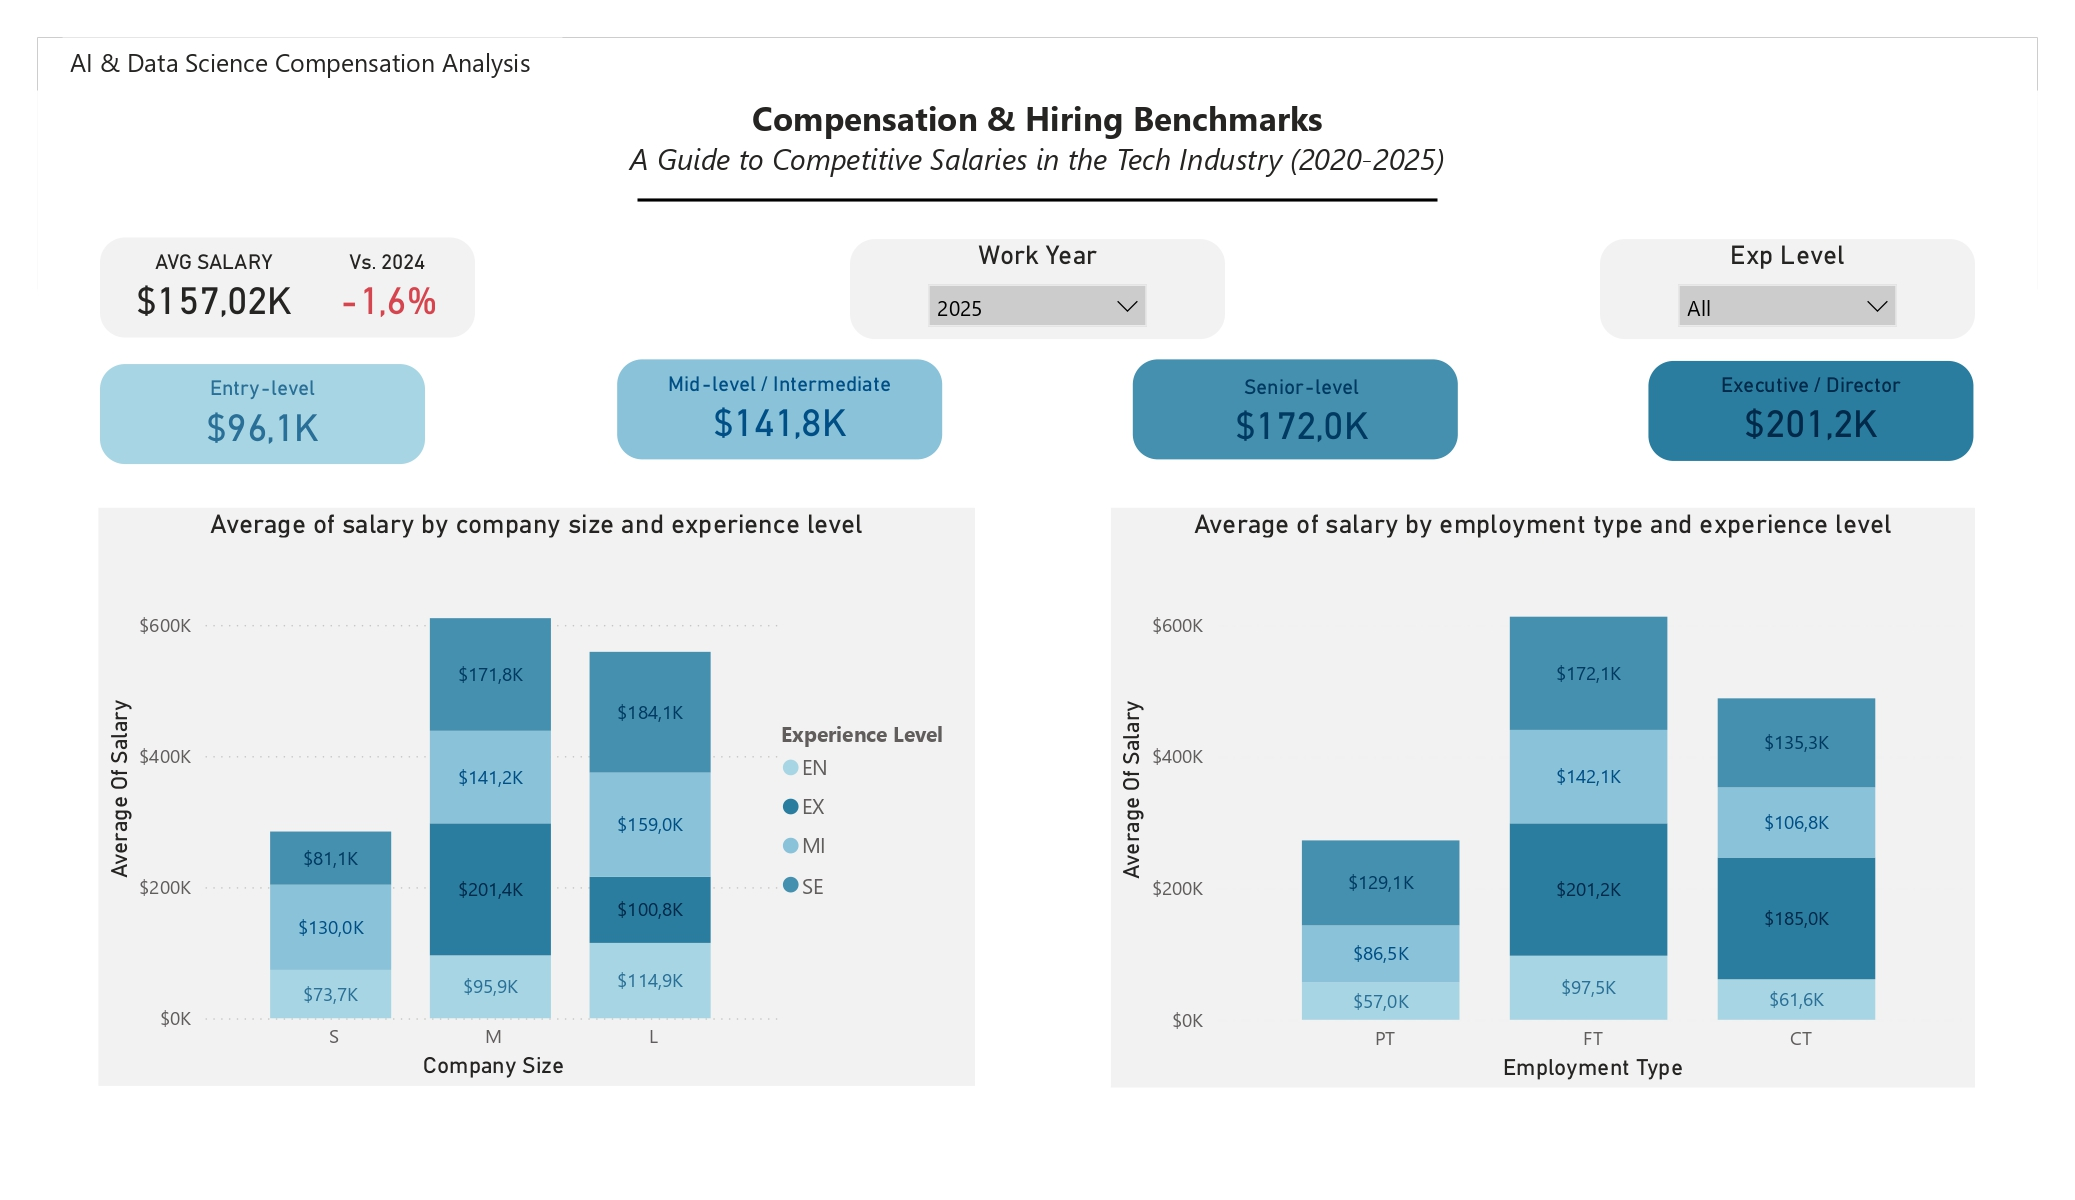

Layout of this report page (visuals, bound fields, positions):
{"tool":"powerbi","page":{"name":"2a.Drill-down by Dimension","canvas":[1280,720],"ordinal":1},"visuals":[{"type":"textbox","box":[16,0,320,48],"z":0},{"type":"shape","box":[1000,128.8,240,64],"z":0,"group":"g2"},{"type":"textbox","box":[16,32,1248,64],"z":1000},{"type":"slicer","title":"Exp Level","fields":{"Values":["salaries.experience_level"]},"box":[1040.2,128.8,160,64],"z":1000,"group":"g2"},{"type":"shape","box":[520,128.6,240,64],"z":1500,"group":"g3"},{"type":"shape","box":[384,96,512,16],"z":2000},{"type":"group","id":"g1","title":"Group 7","box":[40,128,240,64],"z":3000},{"type":"shape","box":[40,128,240,64],"z":4000,"group":"g1"},{"type":"columnChart","title":"Average of salary by company size and experience level","fields":{"Category":["salaries.company_size"],"Y":["Avg(salaries.salary_in_usd)"],"Series":["salaries.experience_level"]},"box":[39.3,301.3,560.4,369.7],"z":4000},{"type":"card","title":"AVG SALARY","fields":{"Values":["Avg(salaries.salary_in_usd)"]},"box":[55.4,136,115.4,48],"z":5000,"group":"g1"},{"type":"columnChart","title":"Average of salary by employment type and experience level","fields":{"Y":["Avg(salaries.salary_in_usd)"],"Category":["salaries.employment_type"],"Series":["salaries.experience_level"]},"box":[687,301.3,553.1,371.2],"z":5000},{"type":"group","id":"g2","title":"Group 1","box":[1000,128.8,240,63.8],"z":6000},{"type":"shape","box":[40,208.6,208,64],"z":6000,"group":"g7"},{"type":"group","id":"g3","title":"Group 2","box":[520,128.6,240,48],"z":7000},{"type":"shape","box":[370.7,206.2,208,64],"z":7000,"group":"g5"},{"type":"group","id":"g4","title":"Group 2","box":[700.9,206.2,208,64],"z":8000},{"type":"shape","box":[700.9,206.2,208,64],"z":8000,"group":"g4"},{"type":"slicer","title":"Work Year","fields":{"Values":["salaries.work_year"]},"box":[560.2,128.6,160,64],"z":9000,"group":"g3"},{"type":"group","id":"g5","title":"Group 3","box":[370.7,206.2,208,64],"z":9000},{"type":"group","id":"g6","title":"Group 4","box":[1031.1,206.8,208.1,63.5],"z":10000},{"type":"shape","box":[1031.1,206.8,208,64],"z":10000,"group":"g6"},{"type":"group","id":"g7","title":"Group 5","box":[40,208.6,208.6,62.9],"z":11000},{"type":"card","title":"Mid-level / Intermediate","fields":{"Values":["salaries.Mid-level"]},"box":[386.7,214.2,176,48],"z":11000,"group":"g5"},{"type":"card","title":"Senior-level","fields":{"Values":["salaries.Senior-level"]},"box":[721.1,215.9,176,48],"z":12000,"group":"g4"},{"type":"card","title":"Executive / Director","fields":{"Values":["salaries.Executive"]},"box":[1047.1,214.8,176,48],"z":13000,"group":"g6"},{"type":"card","title":"Vs. 2024","fields":{"Values":["salaries.Avg_Sal_Change_Vs2024"]},"box":[176,136,96,48],"z":14002,"group":"g1"},{"type":"card","title":"Entry-level","fields":{"Values":["salaries.Entry-level"]},"box":[56,216.6,176,48],"z":16000,"group":"g7"}]}

Visuals, with their boxes on the page's 1280x720 design canvas (x1, y1, x2, y2). These are canvas units, not pixel positions in the 2075x1200 screenshot, which may show the page scaled, cropped or inside an application window:
textbox: Rect(16, 0, 336, 48)
shape: Rect(1000, 129, 1240, 193)
textbox: Rect(16, 32, 1264, 96)
"Exp Level" slicer: Rect(1040, 129, 1200, 193)
shape: Rect(520, 129, 760, 193)
shape: Rect(384, 96, 896, 112)
"Group 7" group: Rect(40, 128, 280, 192)
shape: Rect(40, 128, 280, 192)
"Average of salary by company size and experience level" columnChart: Rect(39, 301, 600, 671)
"AVG SALARY" card: Rect(55, 136, 171, 184)
"Average of salary by employment type and experience level" columnChart: Rect(687, 301, 1240, 672)
"Group 1" group: Rect(1000, 129, 1240, 193)
shape: Rect(40, 209, 248, 273)
"Group 2" group: Rect(520, 129, 760, 177)
shape: Rect(371, 206, 579, 270)
"Group 2" group: Rect(701, 206, 909, 270)
shape: Rect(701, 206, 909, 270)
"Work Year" slicer: Rect(560, 129, 720, 193)
"Group 3" group: Rect(371, 206, 579, 270)
"Group 4" group: Rect(1031, 207, 1239, 270)
shape: Rect(1031, 207, 1239, 271)
"Group 5" group: Rect(40, 209, 249, 272)
"Mid-level / Intermediate" card: Rect(387, 214, 563, 262)
"Senior-level" card: Rect(721, 216, 897, 264)
"Executive / Director" card: Rect(1047, 215, 1223, 263)
"Vs. 2024" card: Rect(176, 136, 272, 184)
"Entry-level" card: Rect(56, 217, 232, 265)
